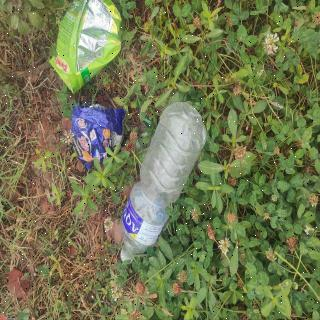Plastic-bottle: (118, 100, 209, 267)
